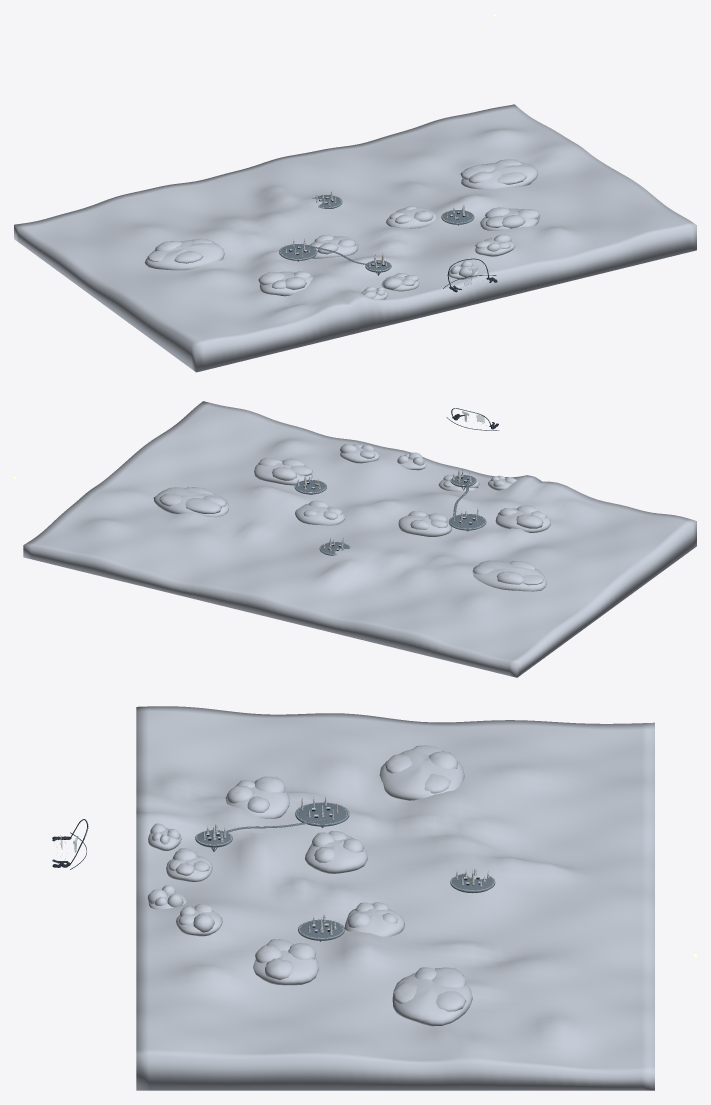
Rendered from tem-observatory-v19.glb.
The picture shows the model from 3 angles, top to bottom: view 1: azimuth 30°, elevation 25°; view 2: azimuth 150°, elevation 25°; view 3: azimuth 270°, elevation 25°; orthographic projection. The views are drawn at different scales.
Visible parts, largest first — view 1: EXTERIOR_V19_V19 CLOUD — illuminated lower sea, EXTERIOR_V19_V19_TITANIUM, EXTERIOR_V19_V19_PEARL; view 2: EXTERIOR_V19_V19 CLOUD — illuminated lower sea, EXTERIOR_V19_V19_TITANIUM, EXTERIOR_V19_V19_PEARL; view 3: EXTERIOR_V19_V19 CLOUD — illuminated lower sea, EXTERIOR_V19_V19_TITANIUM, EXTERIOR_V19_V19_PEARL.
Boxes of the visible parts, left/top/right/bottom form: EXTERIOR_V19_V19 CLOUD — illuminated lower sea: left=14, top=104, right=696, bottom=372; EXTERIOR_V19_V19_TITANIUM: left=279, top=195, right=474, bottom=275; EXTERIOR_V19_V19_PEARL: left=279, top=190, right=473, bottom=270; EXTERIOR_V19_V19 CLOUD — illuminated lower sea: left=23, top=401, right=696, bottom=677; EXTERIOR_V19_V19_TITANIUM: left=294, top=473, right=486, bottom=555; EXTERIOR_V19_V19_PEARL: left=295, top=469, right=485, bottom=554; EXTERIOR_V19_V19 CLOUD — illuminated lower sea: left=136, top=706, right=654, bottom=1090; EXTERIOR_V19_V19_TITANIUM: left=195, top=801, right=495, bottom=941; EXTERIOR_V19_V19_PEARL: left=195, top=796, right=494, bottom=938.
Size of the model in its own units: 880 by 157 by 731.
